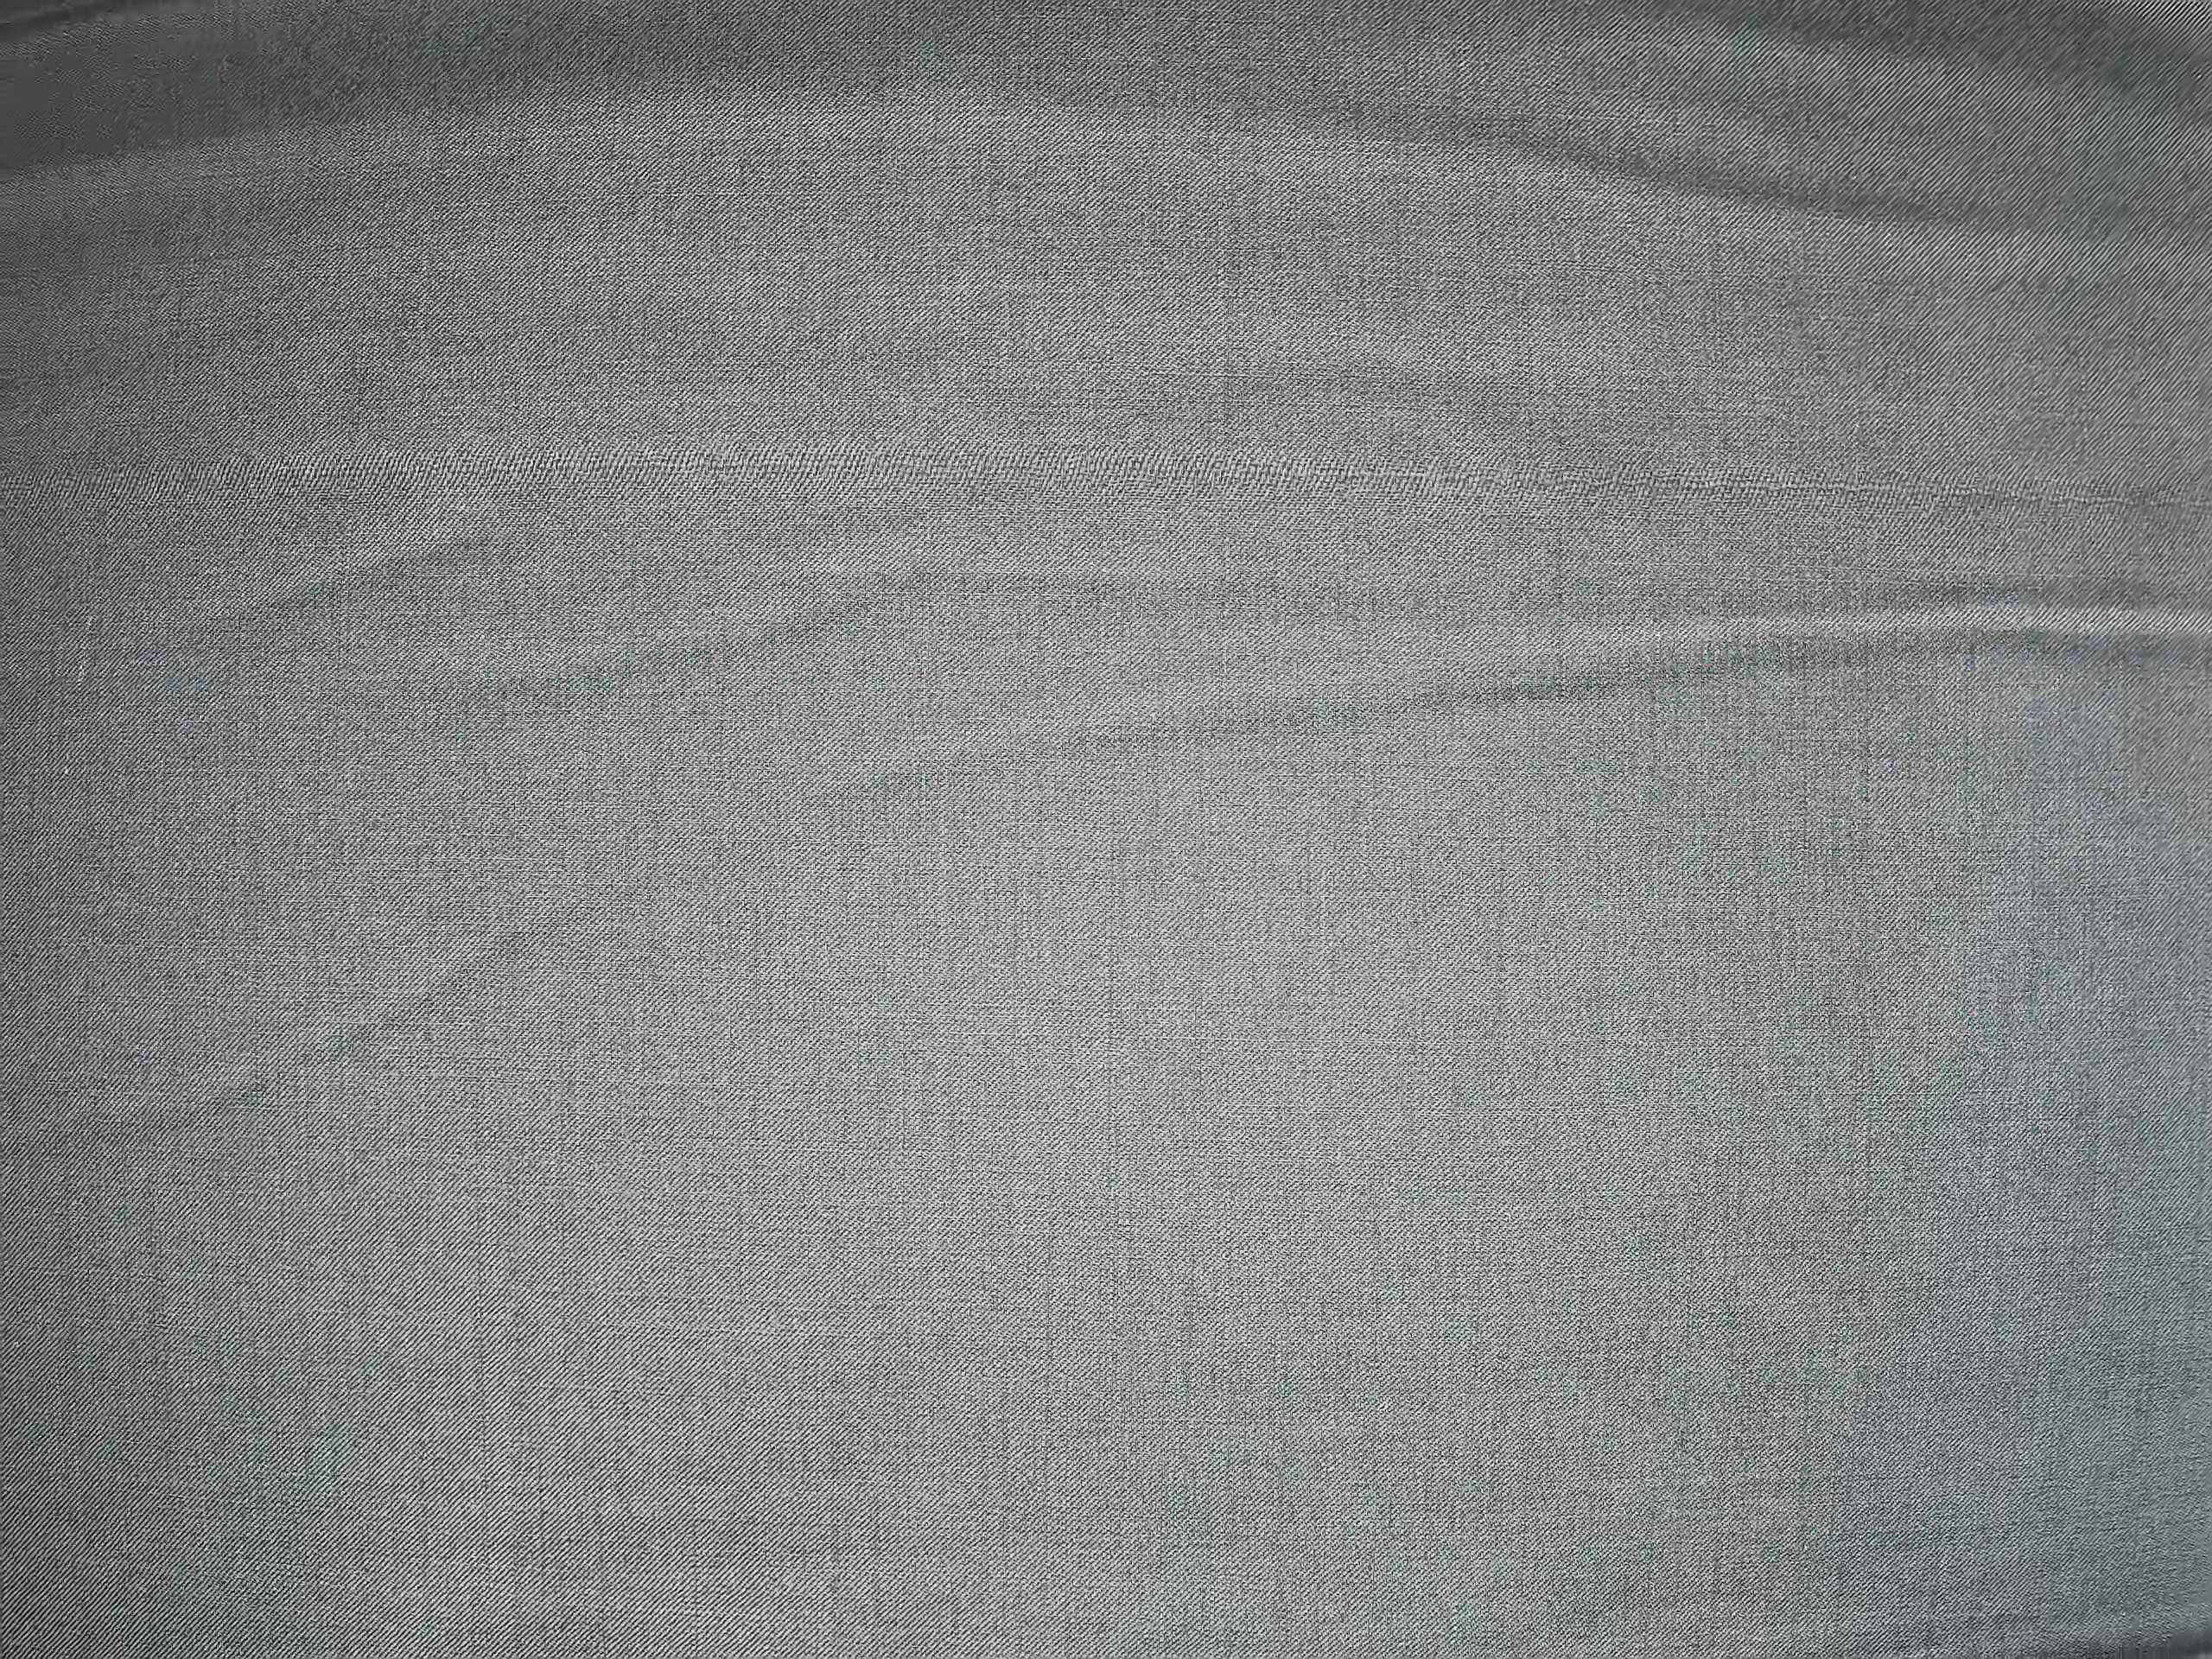thin-spinning: (5, 425, 2207, 538)
